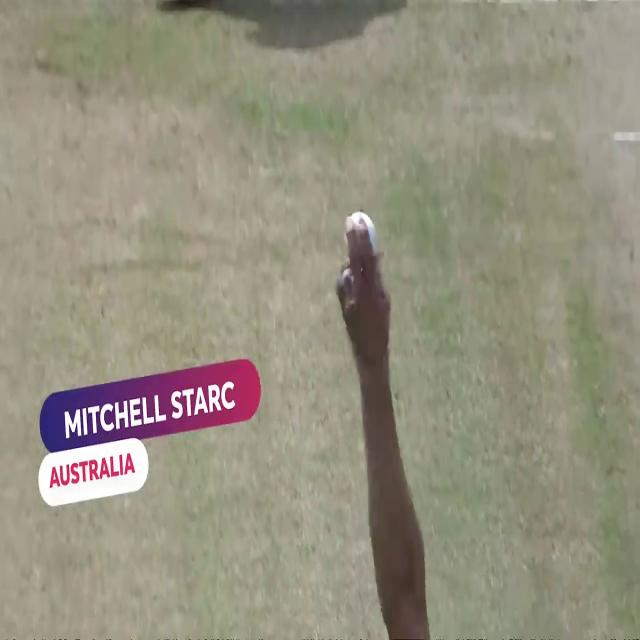ball: (333, 198, 387, 273)
